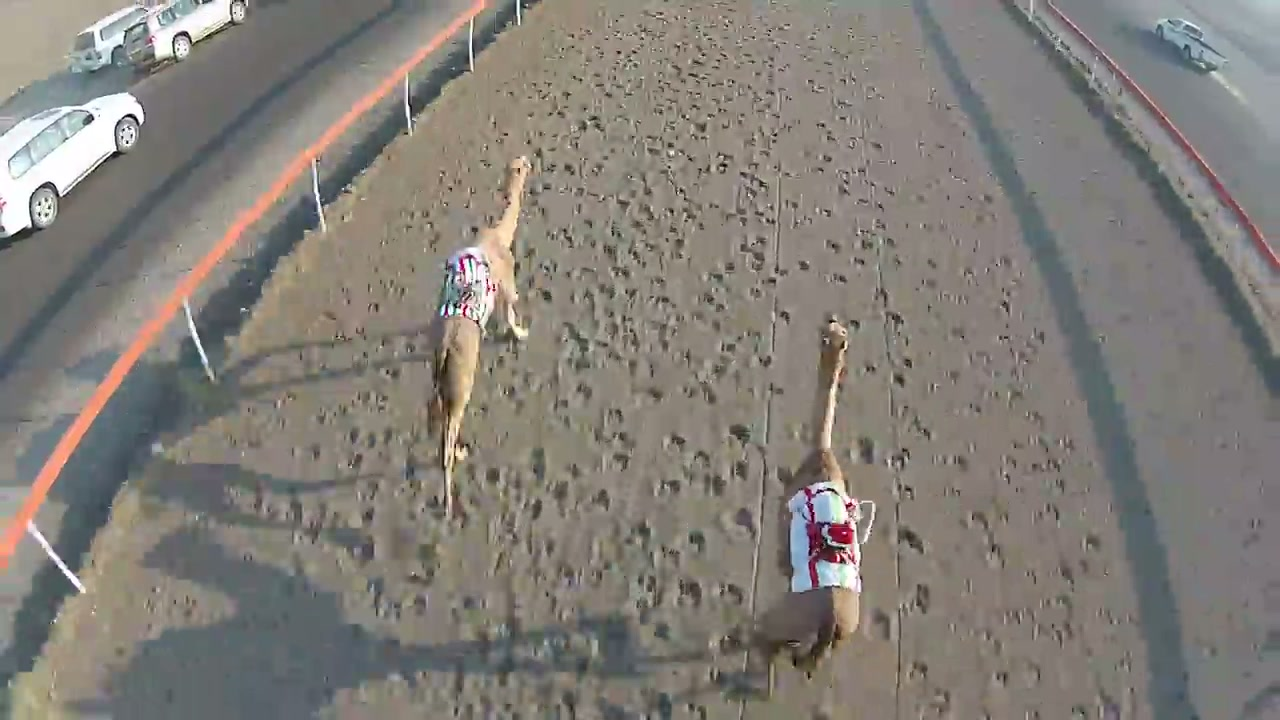animal_foot_print: (464, 47, 777, 688)
